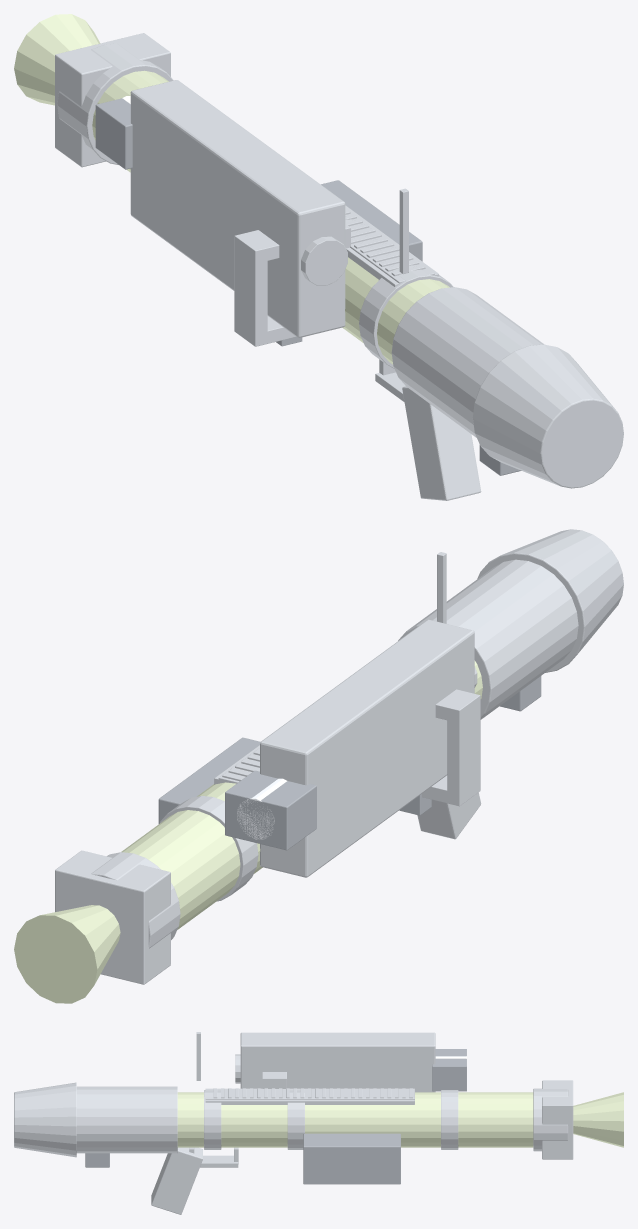
File: rpg.glb
The picture shows the model from 3 angles, top to bottom: view 1: azimuth 30°, elevation 25°; view 2: azimuth 150°, elevation 25°; view 3: azimuth 270°, elevation 25°; orthographic projection. The views are drawn at different scales.
Parts seen in each view (by area): view 1: _CluBody, RearCap, LaunchMotor, Grip, FrontGuard, LaunchTube, ScopeTubeBody, rocket, MuzzleCollar, TopRail, _CluHood, _TubeBand2 (+3 smaller); view 2: _CluBody, LaunchMotor, FrontGuard, LaunchTube, rocket, RearCap, _CluHood, ScopeTubeBody, BCU, MuzzleCollar, _TubeBand0, Grip (+4 smaller); view 3: LaunchTube, _CluBody, LaunchMotor, BCU, RearCap, TopRail, Grip, rocket, FrontGuard, _CluHood, MuzzleCollar, _TubeBand0 (+5 smaller).
Boxes of the visible parts, x1,y1,x2,y2 form: _CluBody: (130,80,345,337); RearCap: (472,344,623,488); LaunchMotor: (391,287,544,437); Grip: (402,386,481,500); FrontGuard: (55,33,170,167); LaunchTube: (92,70,449,364); ScopeTubeBody: (234,224,350,346); rocket: (14,14,100,105); MuzzleCollar: (57,43,173,164); TopRail: (345,205,438,286); _CluHood: (95,98,132,169); _TubeBand2: (359,265,453,368); _CluBody: (260,619,474,877); LaunchMotor: (398,559,578,719); FrontGuard: (55,850,170,984); LaunchTube: (121,660,482,929); rocket: (14,905,120,1003); RearCap: (477,529,623,672); _CluHood: (225,770,316,850); ScopeTubeBody: (422,689,480,806); BCU: (158,737,260,823); MuzzleCollar: (91,852,180,948); _TubeBand0: (159,796,258,901); Grip: (417,792,481,839); LaunchTube: (177,1092,533,1147); _CluBody: (240,1032,435,1092); LaunchMotor: (76,1086,177,1153); BCU: (303,1133,400,1184); RearCap: (14,1082,76,1157); TopRail: (205,1088,414,1104); Grip: (151,1147,202,1214); rocket: (573,1092,623,1147); FrontGuard: (542,1080,573,1159); _CluHood: (432,1049,466,1091); MuzzleCollar: (533,1088,568,1151); _TubeBand0: (441,1090,458,1149).
Bounding box in the file's own units: 0.1945 × 0.2723 × 0.875.
